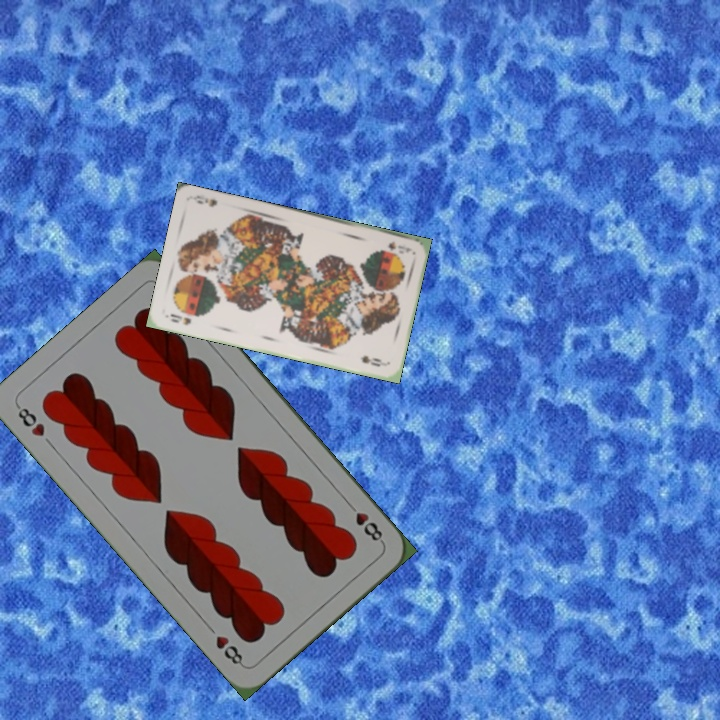H8: (343, 498, 387, 546), (12, 401, 48, 440)
SO: (163, 310, 194, 328), (384, 237, 413, 256)
